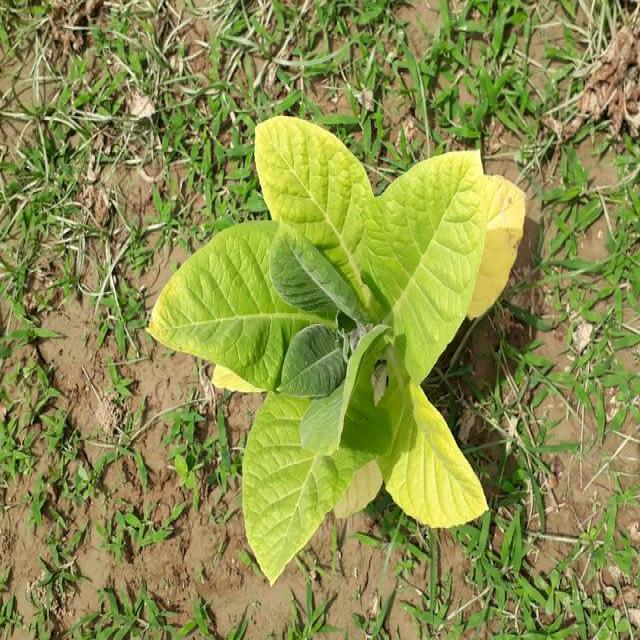crop: (172, 119, 512, 557)
